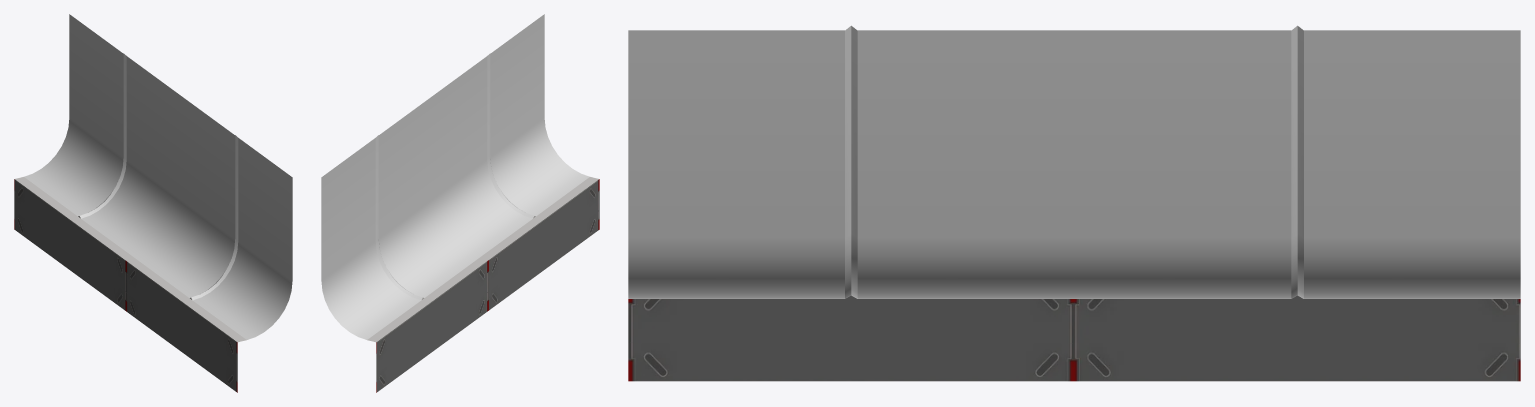
File: town-top-DSHDcQPq.glb
3 views of the same model, side by side, from view 1: azimuth 30°, elevation 25°; view 2: azimuth 150°, elevation 25°; view 3: azimuth 270°, elevation 25° (orthographic). The views are drawn at different scales.
Visible parts, largest first — view 1: TopPlastic_Straight; view 2: TopPlastic_Straight; view 3: TopPlastic_Straight.
Boxes of the visible parts, x1=… form: TopPlastic_Straight: x1=14, y1=14, x2=292, y2=392; TopPlastic_Straight: x1=321, y1=14, x2=599, y2=392; TopPlastic_Straight: x1=628, y1=25, x2=1520, y2=381.
Size of the model in its own units: 0.5679 by 2.02 by 4.
3 materials, 2 textured.
